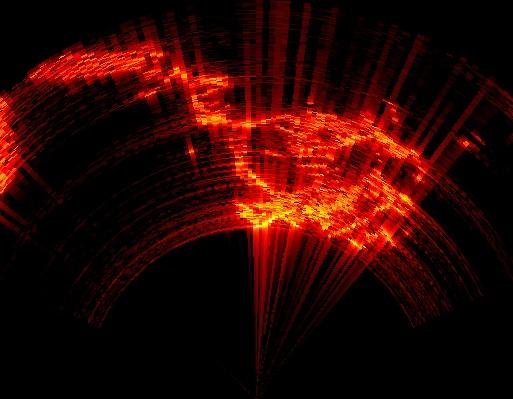shipwreck: (62, 52, 418, 249)
